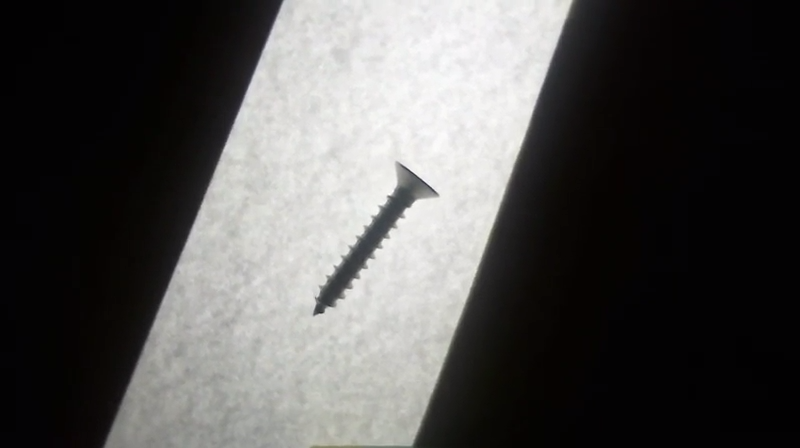S001: (308, 158, 444, 322)
